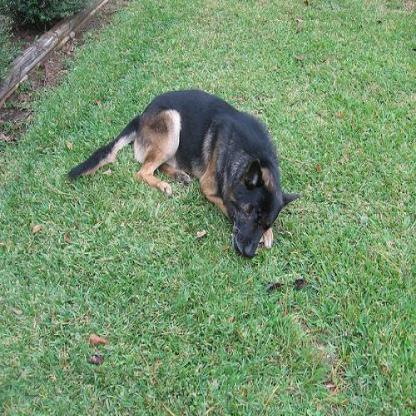German_shepherd: (64, 86, 301, 260)
